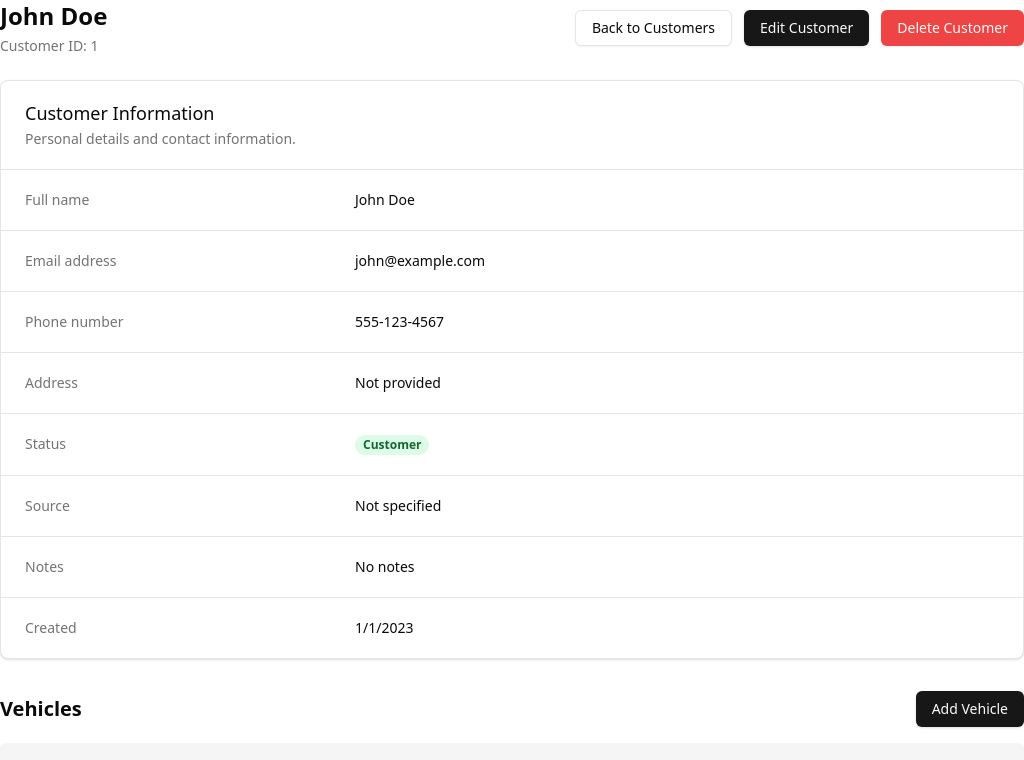
Scenario: CustomerDetails › closes confirmation dialog when cancel is clicked
The width and height of the screenshot is (1024, 760).
Expected: the heading "John Doe" is shown, x1=0 y1=0 x2=107 y2=32
// Click delete button
What coordinates should you click on to do the following:
click the button "Delete Customer"
I would click on:
 (953, 28)
Its box is x1=881 y1=10 x2=1023 y2=46.
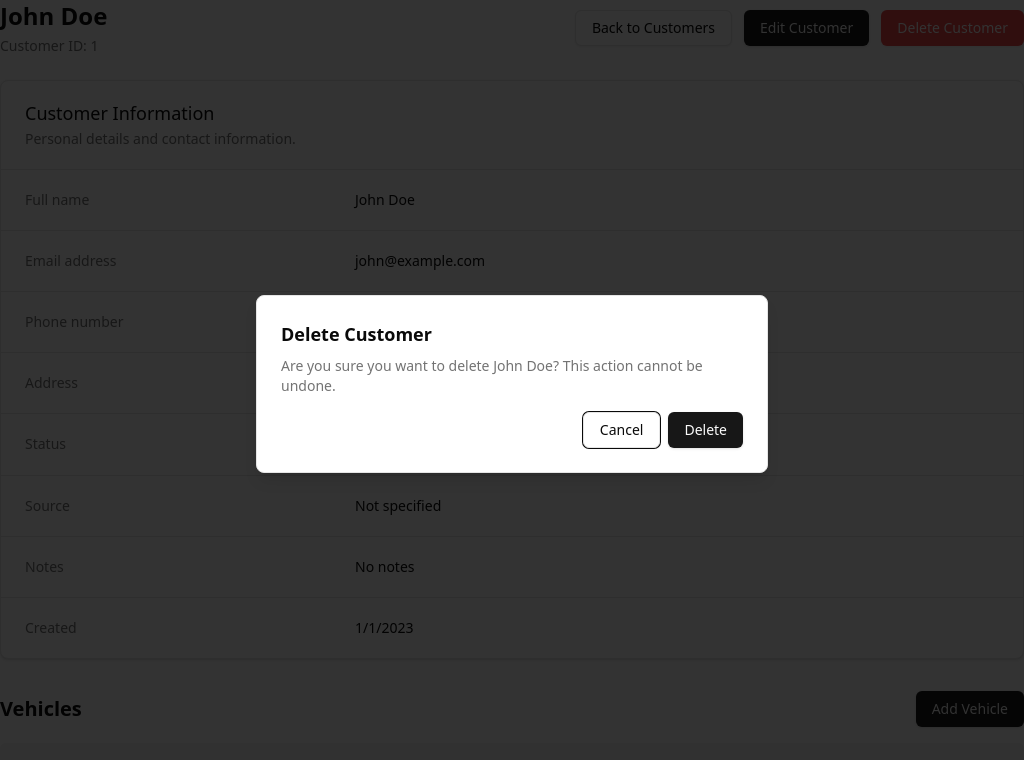
// Click cancel button
What coordinates should you click on to do the following:
click the button "Cancel"
I would click on:
 (622, 430)
Its box is x1=583 y1=412 x2=660 y2=448.
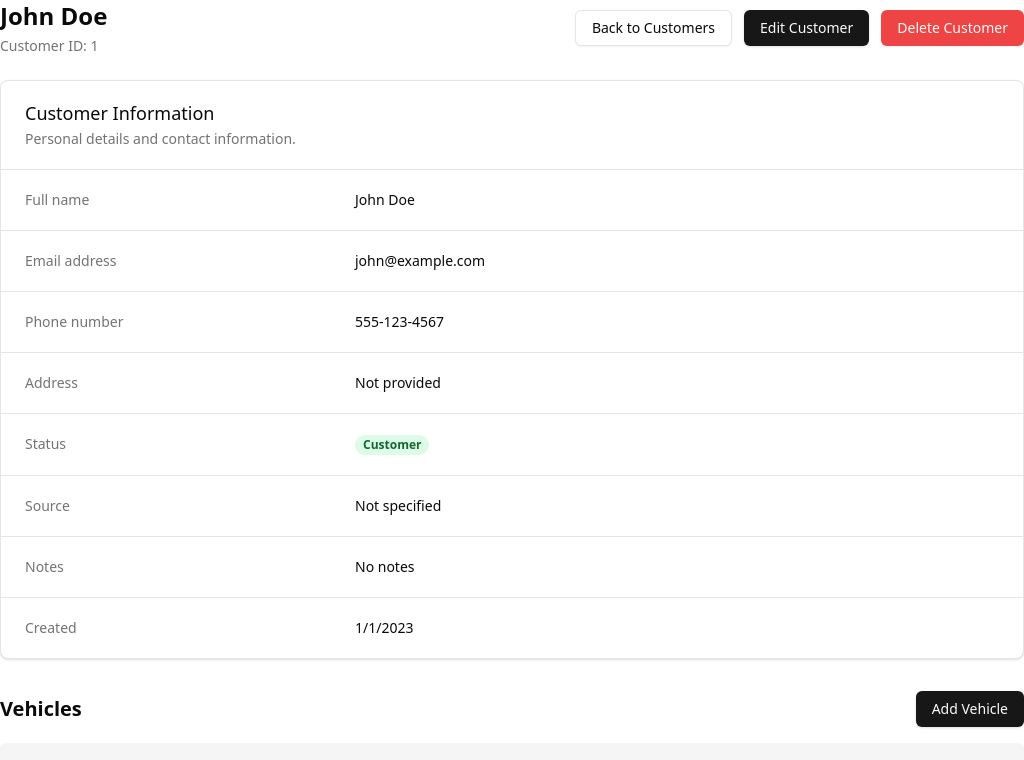
Result: the text "Are you sure you want to delete John Doe" is gone
